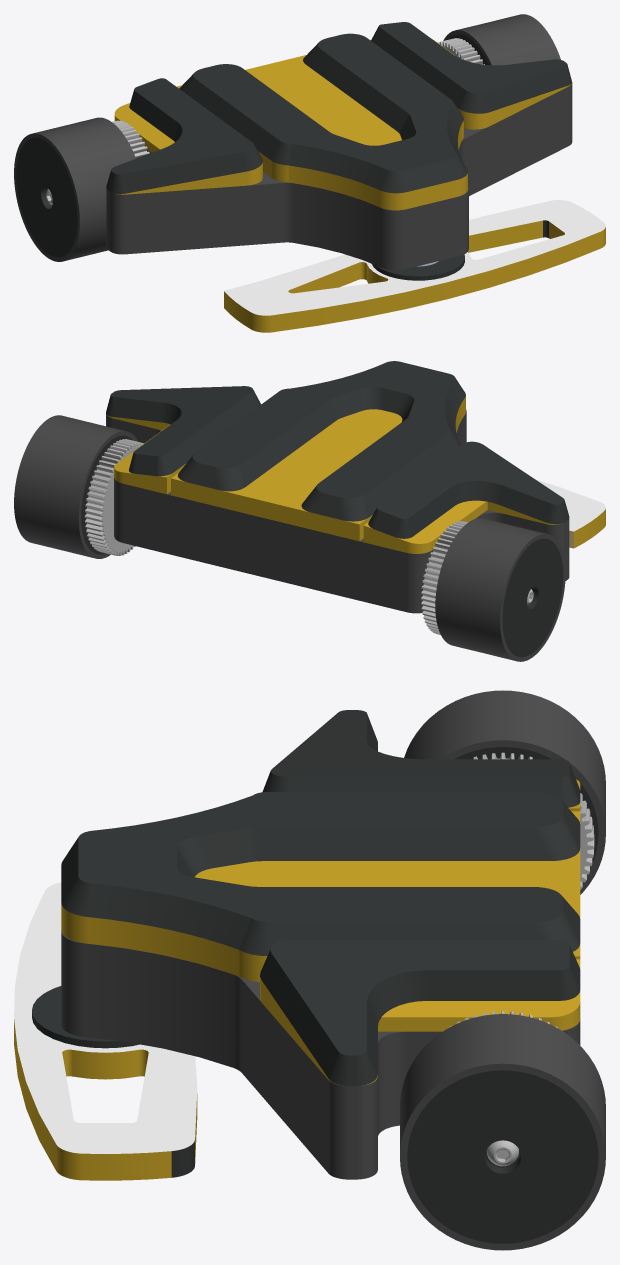
Rendered from Roundhouse_v1.fbx.
The picture shows the model from 3 angles, top to bottom: view 1: azimuth 30°, elevation 25°; view 2: azimuth 150°, elevation 25°; view 3: azimuth 270°, elevation 25°; orthographic projection. The views are drawn at different scales.
Visible parts, largest first — view 1: Body1 (×7), Body3 (×3), Body2 (×3); view 2: Body1 (×7), Body3 (×3), Body2 (×3), Body4; view 3: Body1 (×6), Body3 (×2), Body2 (×3), Body4.
Part boxes in pixels (<box>): Body1 (×7): <box>106,14,605,332</box>; Body3 (×3): <box>16,33,467,257</box>; Body2 (×3): <box>14,22,572,261</box>; Body1 (×7): <box>14,409,605,634</box>; Body3 (×3): <box>178,361,563,657</box>; Body2 (×3): <box>106,386,565,661</box>; Body4: <box>81,435,132,554</box>; Body1 (×6): <box>14,710,605,1250</box>; Body3 (×2): <box>61,747,598,955</box>; Body2 (×3): <box>61,690,605,1086</box>; Body4: <box>407,1070,598,1243</box>.
Size of the model in its own units: 30 by 7.75 by 20.11.
